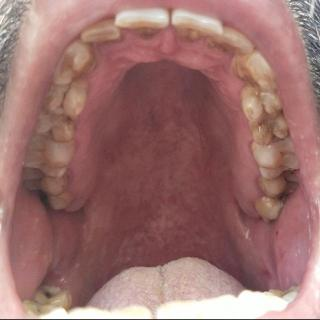UL1BC_decay: (241, 86, 289, 145)
UL1M_decay: (257, 176, 296, 198)
UL2BC_decay: (250, 141, 299, 180)
UL2M_decay: (254, 197, 283, 222)
ULCI_decay: (172, 9, 224, 43)
ULC_decay: (231, 51, 277, 91)
ULLI_decay: (213, 24, 254, 55)
UR1BC_decay: (34, 83, 87, 143)
UR1M_decay: (23, 169, 68, 194)
UR2BC_decay: (23, 137, 77, 178)
UR2M_decay: (40, 191, 74, 209)
URCI_decay: (113, 6, 170, 38)
URC_decay: (51, 40, 96, 84)
URLI_decay: (79, 19, 123, 45)
